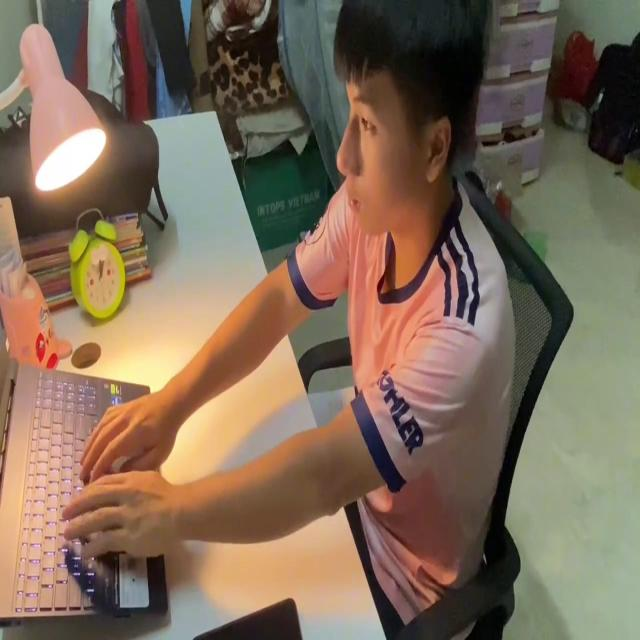book: (308, 382, 362, 426)
laptop: (0, 299, 170, 624)
phone: (192, 588, 302, 640)
student: (63, 6, 513, 623)
